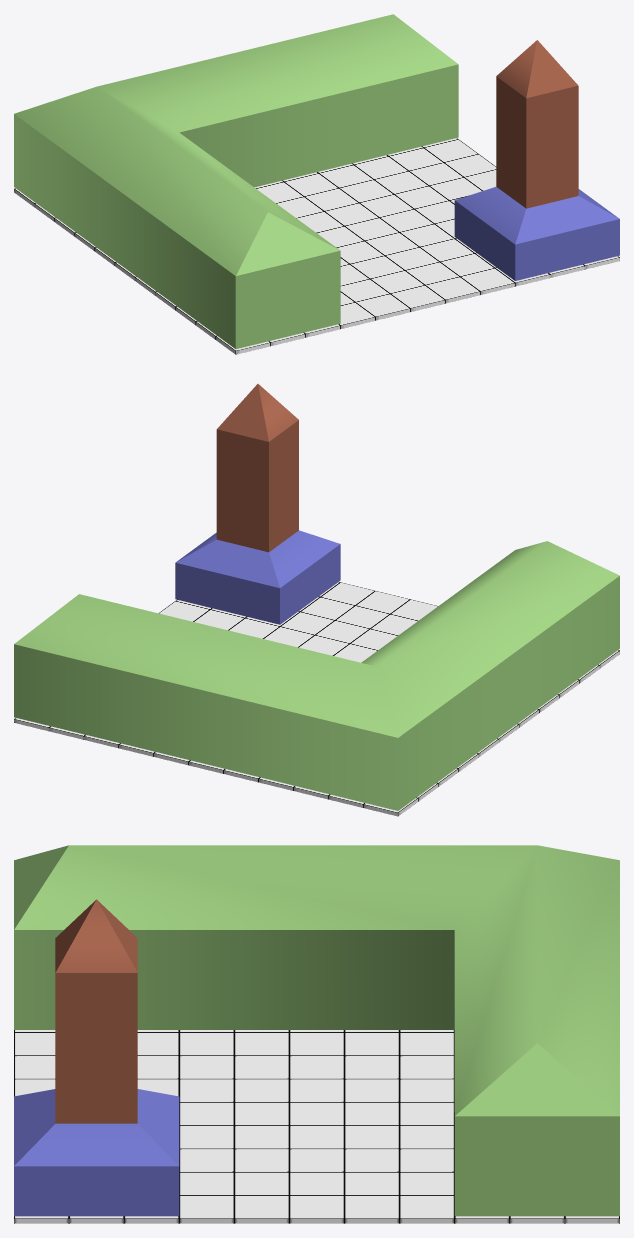
The model's file is XG_Town-Hall.glb.
The picture shows the model from 3 angles, top to bottom: view 1: azimuth 30°, elevation 25°; view 2: azimuth 150°, elevation 25°; view 3: azimuth 270°, elevation 25°; orthographic projection. The views are drawn at different scales.
Parts seen in each view (by area): view 1: building_9m_3m_g_shape_006, building_3m_3m_018, building_3m_3m_006, 1m_base_block_1446, 1m_base_block_1451, 1m_base_block_1447, 1m_base_block_1448, 1m_base_block_1347, 1m_base_block_1372, 1m_base_block_1409, 1m_base_block_1358, 1m_base_block_1373 (+27 smaller); view 2: building_9m_3m_g_shape_006, building_3m_3m_018, building_3m_3m_006, 1m_base_block_1353, 1m_base_block_1440, 1m_base_block_1451, 1m_base_block_1435, 1m_base_block_1358, 1m_base_block_1446, 1m_base_block_1412, 1m_base_block_1401, 1m_base_block_1352 (+2 smaller); view 3: building_9m_3m_g_shape_006, building_3m_3m_006, building_3m_3m_018, 1m_base_block_1427, 1m_base_block_1428, 1m_base_block_1429, 1m_base_block_1430, 1m_base_block_1432, 1m_base_block_1349, 1m_base_block_1372, 1m_base_block_1373, 1m_base_block_1374 (+37 smaller).
Boxes of the visible parts, left/top/right/bottom form: building_9m_3m_g_shape_006: left=14, top=14, right=458, bottom=348; building_3m_3m_018: left=496, top=40, right=578, bottom=208; building_3m_3m_006: left=454, top=187, right=619, bottom=280; 1m_base_block_1446: left=425, top=277, right=480, bottom=303; 1m_base_block_1451: left=460, top=268, right=515, bottom=294; 1m_base_block_1447: left=390, top=285, right=445, bottom=311; 1m_base_block_1448: left=356, top=294, right=410, bottom=320; 1m_base_block_1347: left=354, top=156, right=408, bottom=179; 1m_base_block_1372: left=284, top=173, right=338, bottom=196; 1m_base_block_1409: left=360, top=194, right=413, bottom=217; 1m_base_block_1358: left=420, top=238, right=474, bottom=261; 1m_base_block_1373: left=304, top=188, right=358, bottom=211; building_9m_3m_g_shape_006: left=14, top=541, right=619, bottom=810; building_3m_3m_018: left=216, top=384, right=298, bottom=552; building_3m_3m_006: left=175, top=530, right=340, bottom=624; 1m_base_block_1353: left=315, top=620, right=369, bottom=643; 1m_base_block_1440: left=300, top=597, right=354, bottom=620; 1m_base_block_1451: left=321, top=582, right=374, bottom=605; 1m_base_block_1435: left=335, top=605, right=389, bottom=628; 1m_base_block_1358: left=280, top=612, right=334, bottom=634; 1m_base_block_1446: left=356, top=591, right=409, bottom=613; 1m_base_block_1412: left=263, top=626, right=314, bottom=647; 1m_base_block_1401: left=298, top=635, right=349, bottom=655; 1m_base_block_1352: left=228, top=618, right=279, bottom=638; building_9m_3m_g_shape_006: left=14, top=845, right=619, bottom=1216; building_3m_3m_006: left=14, top=1089, right=179, bottom=1216; building_3m_3m_018: left=55, top=899, right=137, bottom=1123; 1m_base_block_1427: left=399, top=1195, right=454, bottom=1223; 1m_base_block_1428: left=344, top=1195, right=399, bottom=1223; 1m_base_block_1429: left=289, top=1195, right=344, bottom=1223; 1m_base_block_1430: left=234, top=1195, right=289, bottom=1223; 1m_base_block_1432: left=179, top=1195, right=234, bottom=1223; 1m_base_block_1349: left=289, top=1149, right=344, bottom=1172; 1m_base_block_1372: left=399, top=1102, right=454, bottom=1125; 1m_base_block_1373: left=344, top=1102, right=399, bottom=1125; 1m_base_block_1374: left=289, top=1102, right=344, bottom=1125.
Bounding box in the file's own units: 11 × 5.8 × 11.
Materials: 4 (1 with a texture image).
